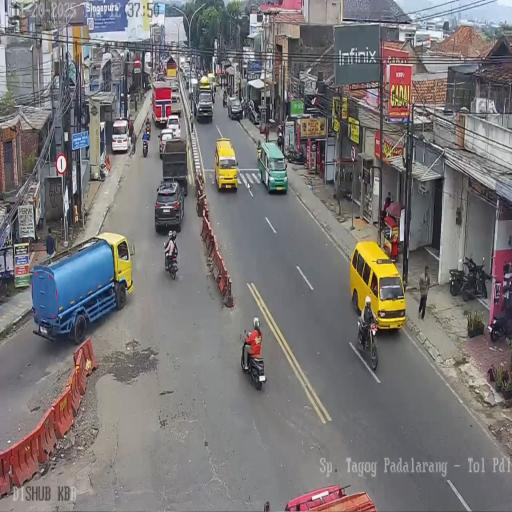car: (348, 240, 404, 331), (257, 140, 287, 194), (214, 137, 238, 193), (111, 118, 130, 154), (227, 94, 243, 120), (166, 114, 182, 138), (248, 100, 260, 124), (207, 72, 217, 92), (183, 66, 191, 82), (156, 73, 167, 82), (191, 68, 197, 80)
motorcycle: (240, 326, 266, 390), (460, 254, 488, 301), (356, 315, 378, 370), (488, 304, 511, 344), (163, 238, 178, 280), (448, 267, 466, 296), (284, 142, 304, 164), (276, 126, 284, 153), (242, 98, 250, 118), (145, 122, 151, 140), (222, 92, 228, 108), (212, 92, 215, 105)
truck: (29, 234, 133, 342), (160, 137, 188, 197), (152, 80, 174, 127), (194, 78, 213, 122), (170, 86, 181, 115), (180, 56, 186, 72)
